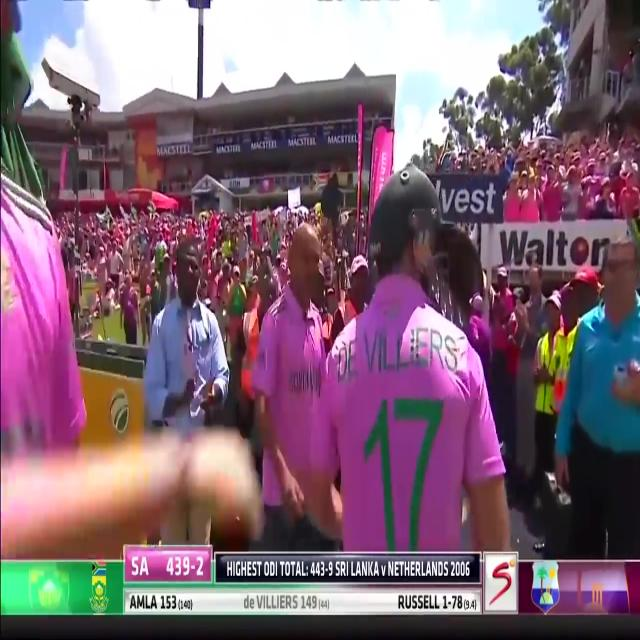Ball: (210, 186, 508, 552)
